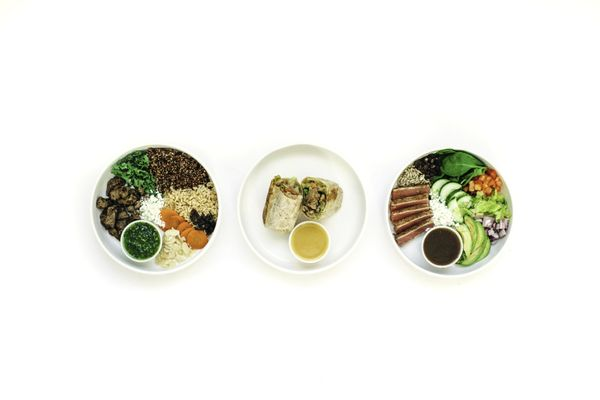curry: (111, 149, 162, 197)
sushi: (91, 144, 221, 275), (238, 143, 367, 273)
